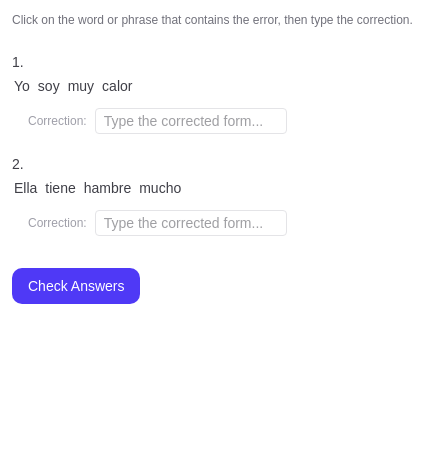
Test: ErrorCorrectionRenderer.Student › shows score and try-again after checking
This screenshot has width=429, height=461.
Click the button with test id "check-answers-btn": (76, 286) 12,268 -> 140,304
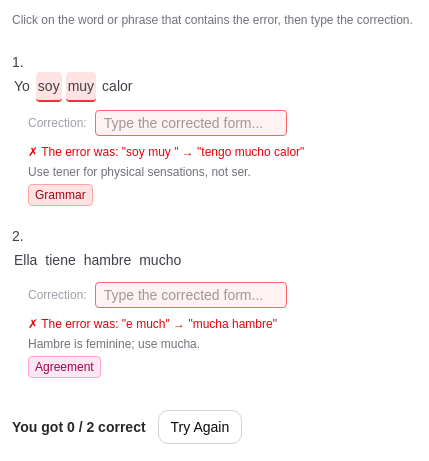
Expected: the text "You got 0 / 2 correct" is shown, 12,417 -> 146,437
Expected: the button with test id "try-again-btn" is shown, 158,410 -> 242,444
